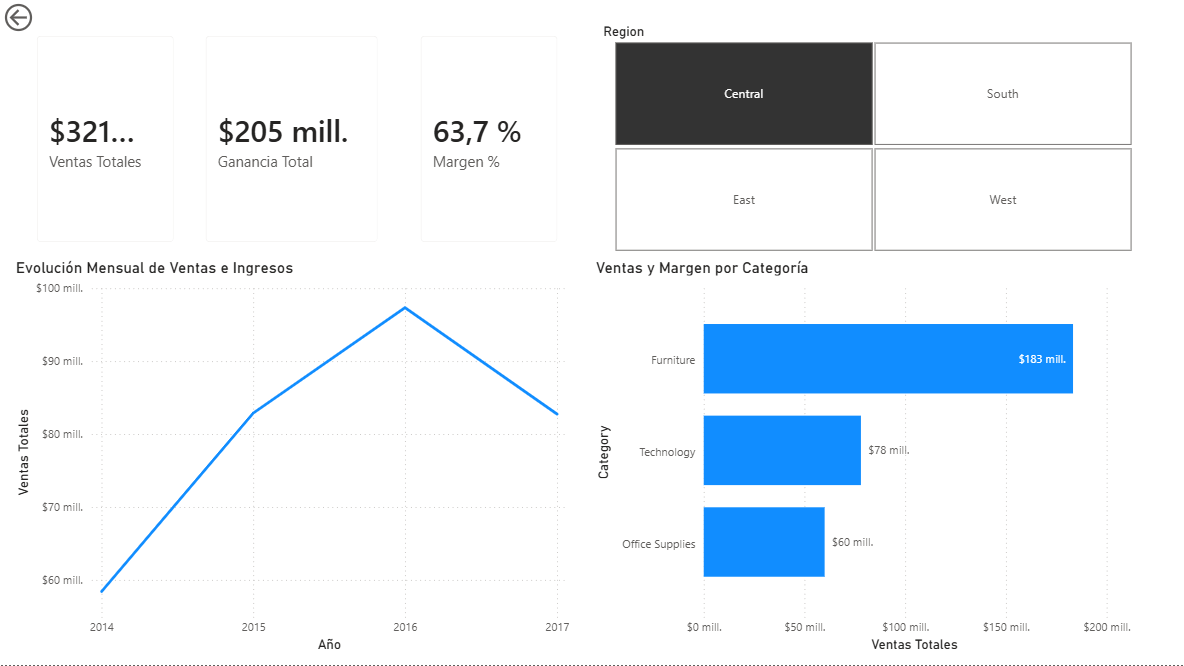

The page's visual inventory and layout, read from the dashboard file:
{"tool":"powerbi","page":{"name":"Página 1","canvas":[1280,720],"ordinal":0},"visuals":[{"type":"cardVisual","fields":{"Data":["_Medidas.Ventas Totales"]},"box":[22.4,22.4,182.9,257.5],"z":0},{"type":"actionButton","box":[0,0,100,40],"z":1},{"type":"cardVisual","fields":{"Data":["_Medidas.Ganancia Total"]},"box":[205.3,22.4,220.2,257.5],"z":2},{"type":"cardVisual","fields":{"Data":["_Medidas.Margen %"]},"box":[437.9,22.4,182.9,257.5],"z":3},{"type":"lineChart","title":"Evolución Mensual de Ventas e Ingresos","fields":{"Category":["Sample_ Superstore.Order Date.Variación.Jerarquía de fechas.Año","Sample_ Superstore.Order Date.Variación.Jerarquía de fechas.Trimestre","Sample_ Superstore.Order Date.Variación.Jerarquía de fechas.Mes","Sample_ Superstore.Order Date.Variación.Jerarquía de fechas.Día"],"Y":["_Medidas.Ventas Totales"]},"box":[12.4,279.9,608.3,431.7],"z":4},{"type":"clusteredBarChart","title":"Ventas y Margen por Categoría","fields":{"Category":["Sample_ Superstore.Category"],"Y":["_Medidas.Ventas Totales"]},"box":[639.4,279.9,608.3,431.7],"z":5},{"type":"slicer","fields":{"Values":["Sample_ Superstore.Region"]},"box":[639,22,608,257],"z":6}]}

Visuals, with their boxes in screenshot pixels (x1, y1, x2, y2), scaled from the page's 1280x720 canvas onto the 1184x666 screenshot:
cardVisual - _Medidas.Ventas Totales: Rect(21, 21, 190, 259)
actionButton: Rect(0, 0, 92, 37)
cardVisual - _Medidas.Ganancia Total: Rect(190, 21, 394, 259)
cardVisual - _Medidas.Margen %: Rect(405, 21, 574, 259)
"Evolución Mensual de Ventas e Ingresos" lineChart: Rect(11, 259, 574, 658)
"Ventas y Margen por Categoría" clusteredBarChart: Rect(591, 259, 1154, 658)
slicer - Sample_ Superstore.Region: Rect(591, 20, 1153, 258)
